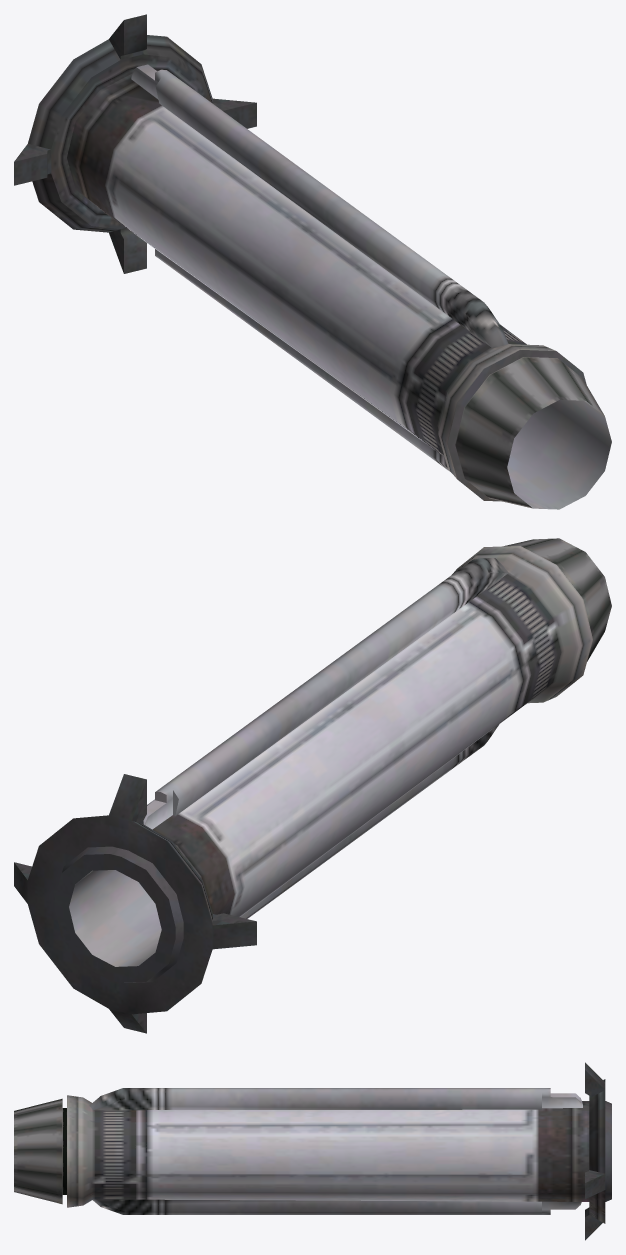
File: eqp_comp_chaff_launcher_l0.fbx
3 views of the same model, one above another, from view 1: azimuth 30°, elevation 25°; view 2: azimuth 150°, elevation 25°; view 3: azimuth 270°, elevation 25° (orthographic). The views are drawn at different scales.
Parts seen in each view (by area): view 1: mesh_node; view 2: mesh_node; view 3: mesh_node.
Boxes of the visible parts, x1=… form: mesh_node: x1=14, y1=14, x2=611, y2=509; mesh_node: x1=14, y1=538, x2=611, y2=1033; mesh_node: x1=14, y1=1062, x2=611, y2=1240.
Bounding box in the file's own units: 0.6313 × 0.6313 × 2.
